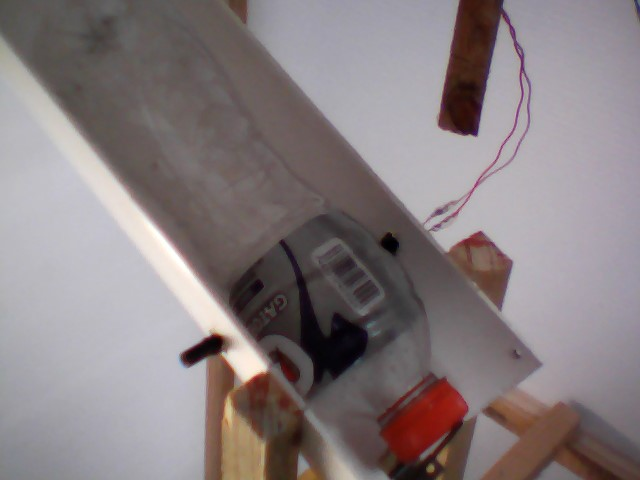plastico: (22, 1, 476, 472)
